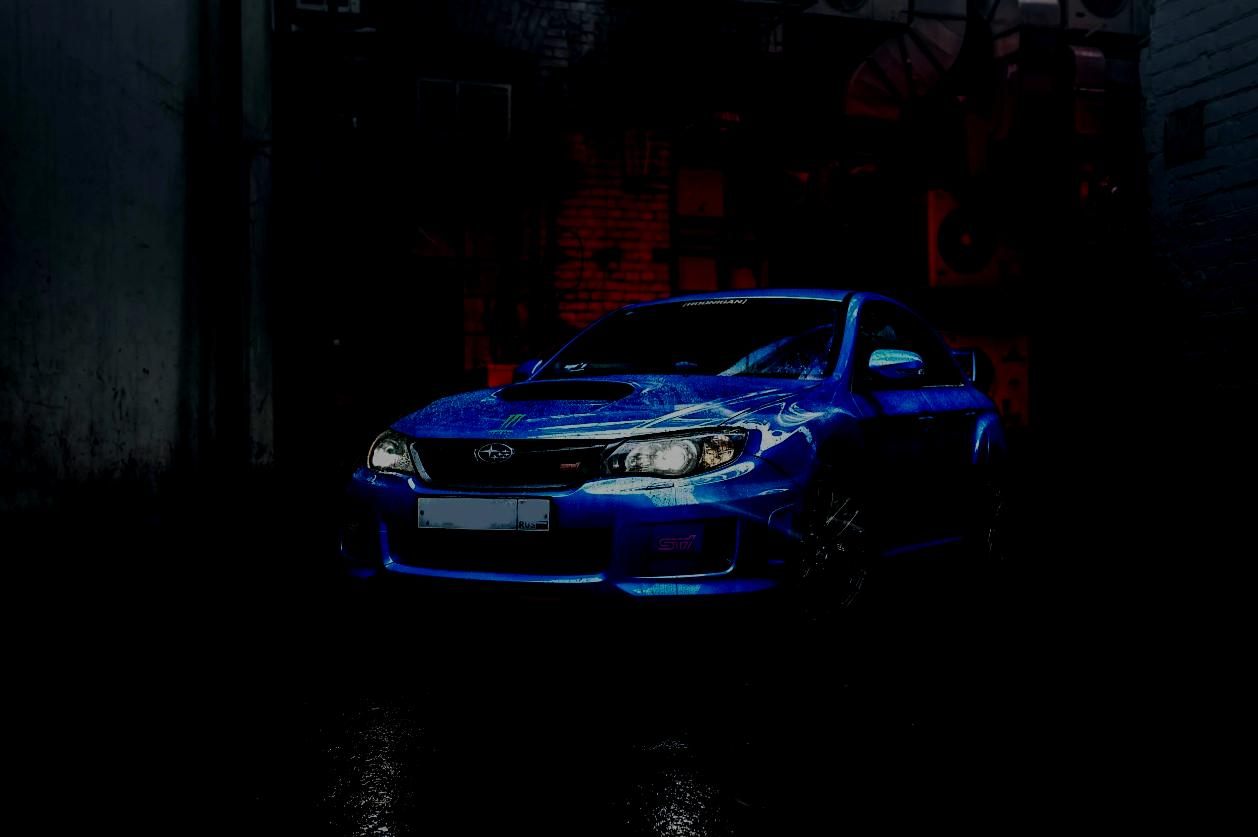subaru: (472, 435, 527, 470)
